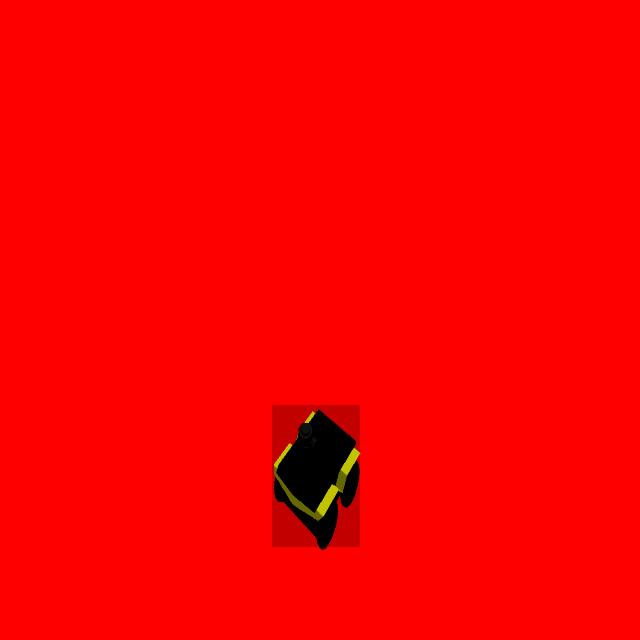jackal: (272, 406, 360, 548)
